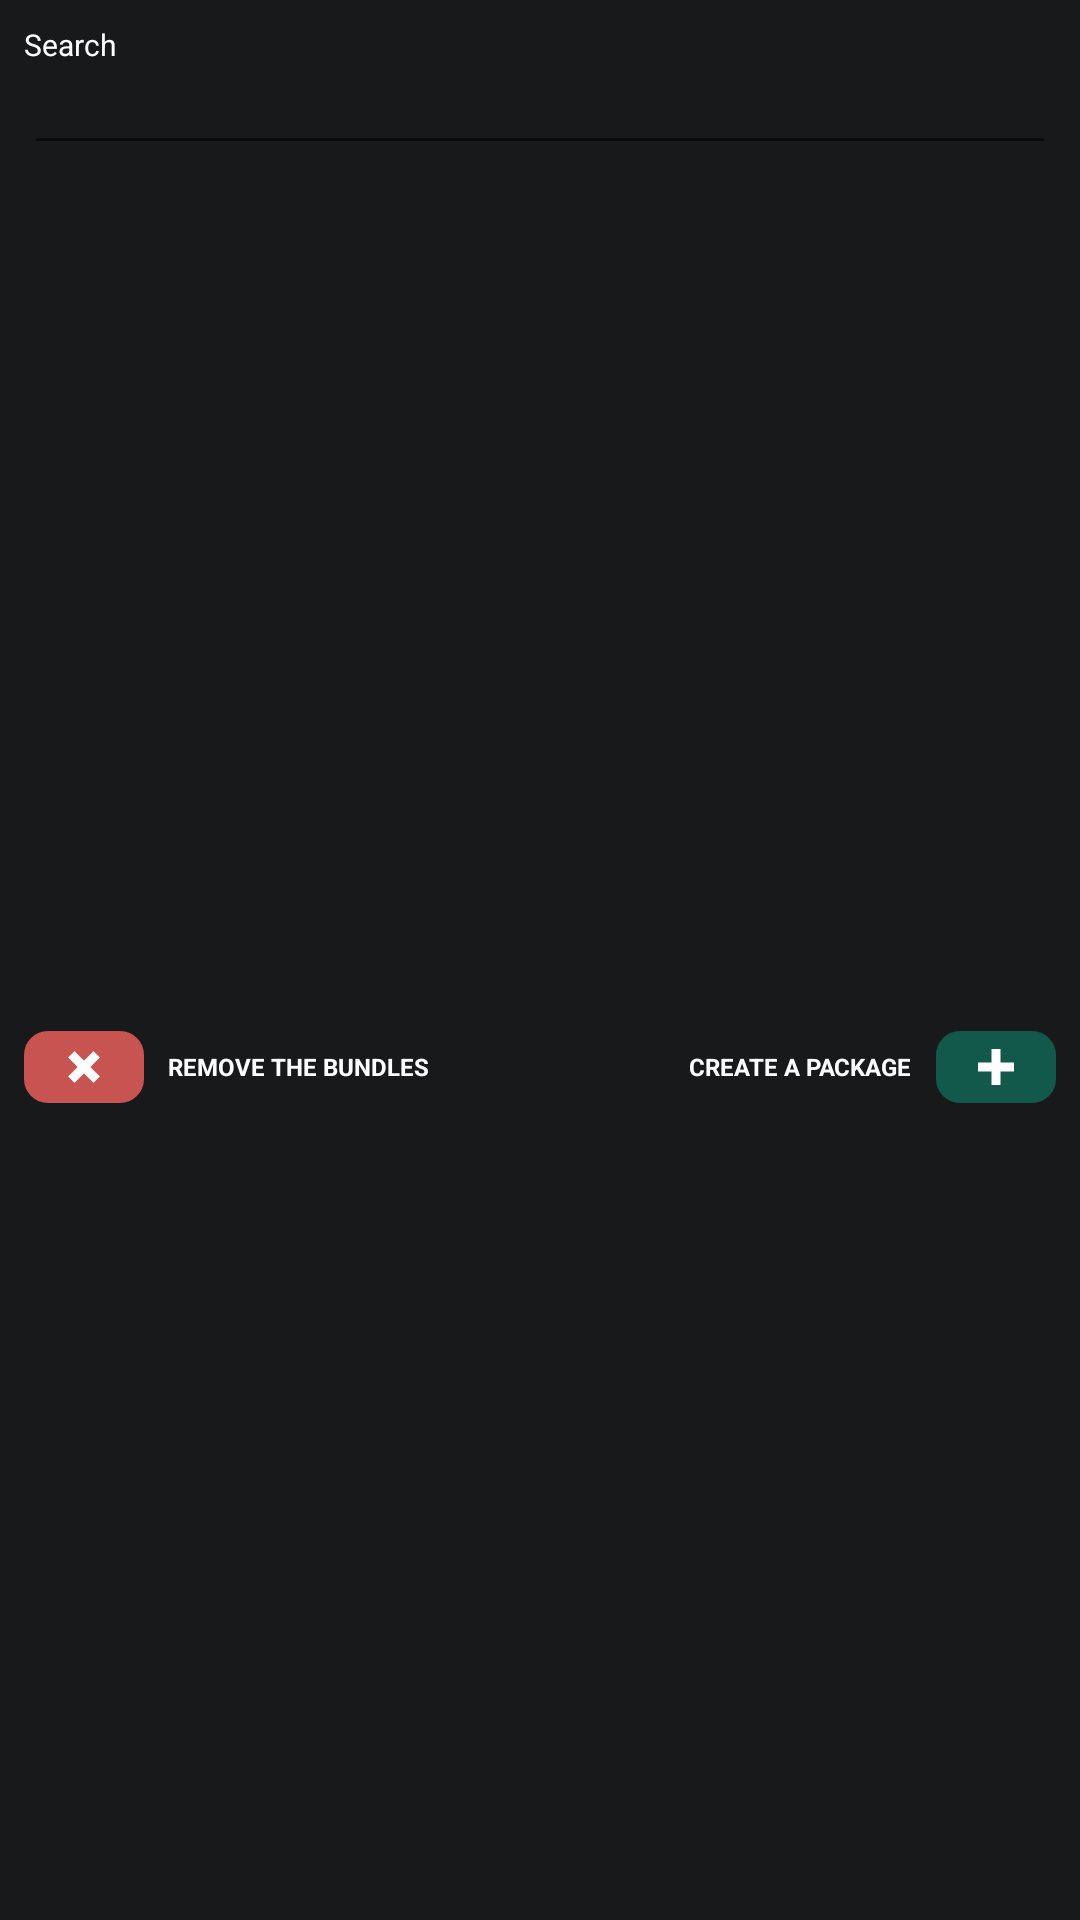

Locate icon controls on the screen. Image size 1080*1920, boxes as box(x1, y1, x2, y2).
plus: box(936, 1031, 1056, 1103)
plus rotate: box(24, 1031, 144, 1103)
